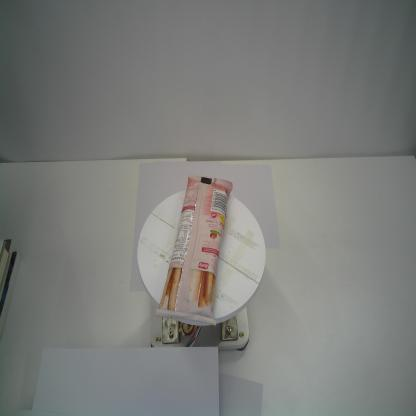Dessert: (153, 172, 233, 331)
